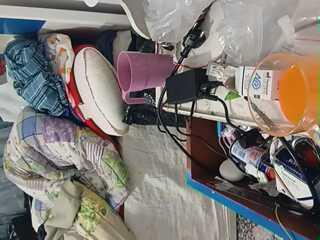cup: (248, 53, 319, 136), (117, 52, 174, 104)
